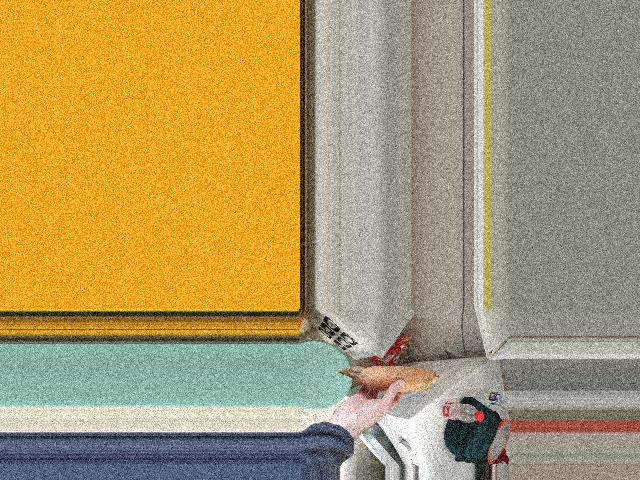sweet_potato: (336, 364, 431, 397)
